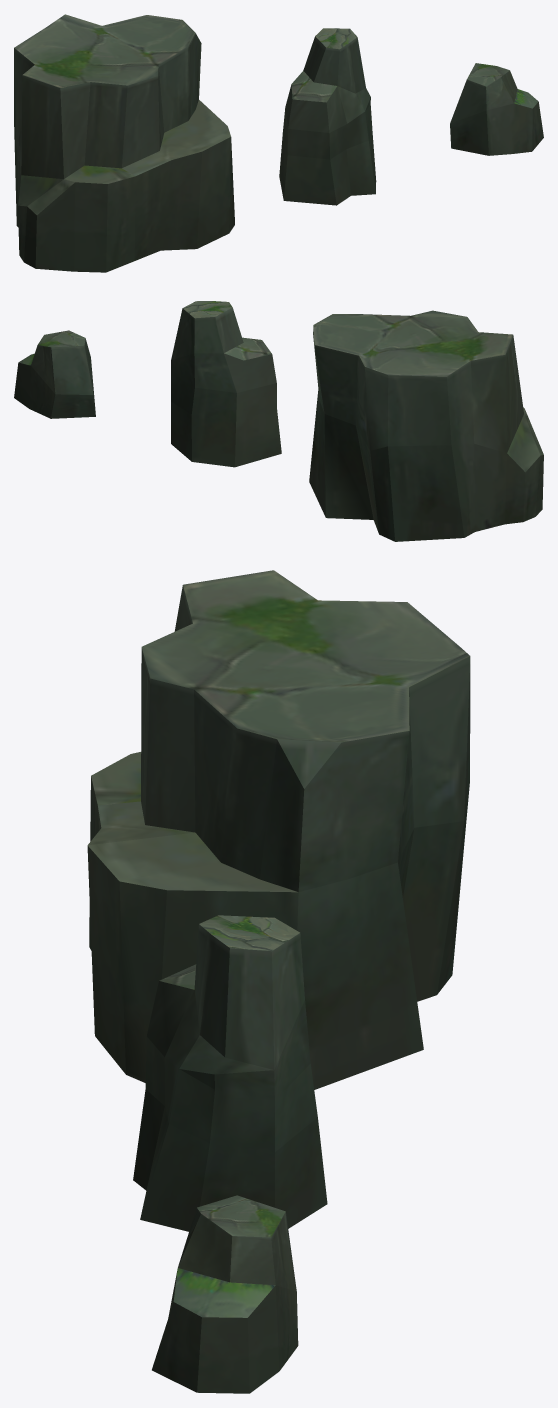
Rendered from FB_1_shitou02.FBX.
3 views of the same model, one above another, from view 1: azimuth 30°, elevation 25°; view 2: azimuth 150°, elevation 25°; view 3: azimuth 270°, elevation 25° (orthographic). The views are drawn at different scales.
Visible parts, largest first — view 1: FB_1_shitou02_001, FB_1_shitou02_002, FB_1_shitou02_003; view 2: FB_1_shitou02_001, FB_1_shitou02_002, FB_1_shitou02_003; view 3: FB_1_shitou02_001, FB_1_shitou02_002, FB_1_shitou02_003.
Part boxes in pixels (box(x1,y1,x2,y2)): FB_1_shitou02_001: box(14, 14, 234, 272); FB_1_shitou02_002: box(279, 28, 376, 205); FB_1_shitou02_003: box(450, 63, 543, 155); FB_1_shitou02_001: box(309, 310, 543, 541); FB_1_shitou02_002: box(171, 301, 281, 467); FB_1_shitou02_003: box(14, 330, 95, 418); FB_1_shitou02_001: box(87, 570, 470, 1089); FB_1_shitou02_002: box(133, 915, 327, 1231); FB_1_shitou02_003: box(152, 1195, 298, 1393).
Bounding box in the file's own units: 697 × 224 × 225.
Materials: 1 (1 with a texture image).
